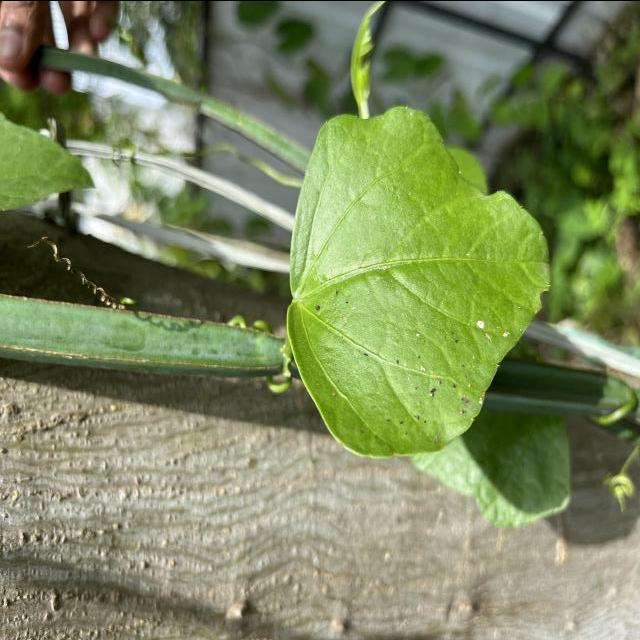Cissus quadrangularis: (284, 102, 554, 460)
